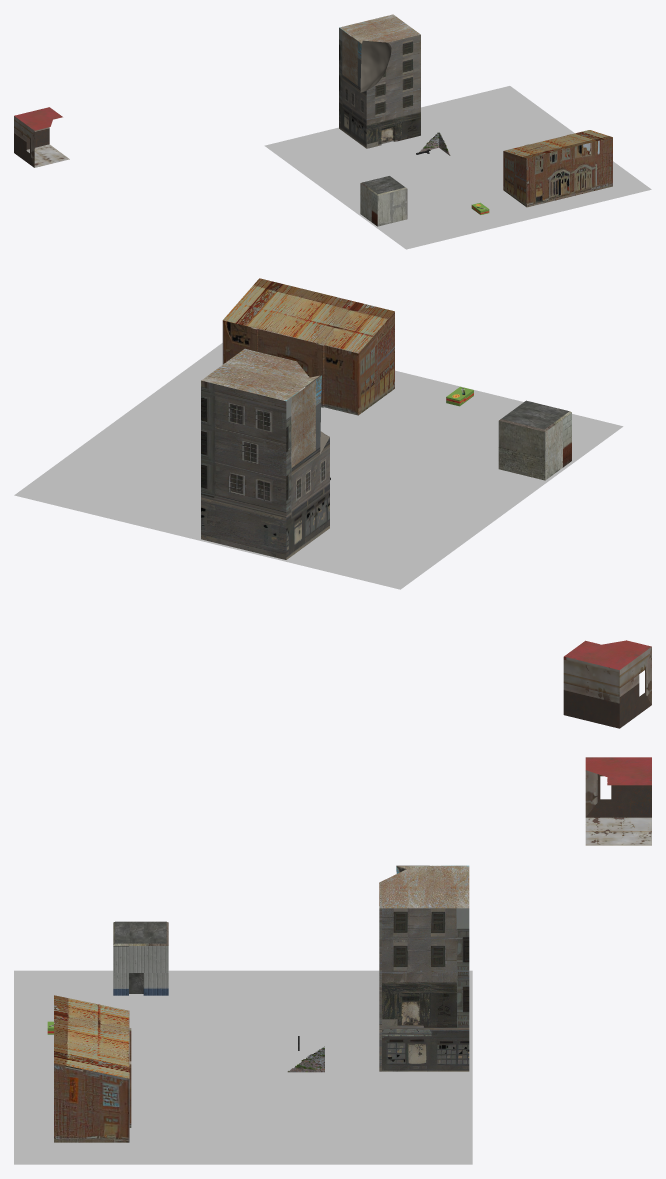
The model's file is Rota.obj.
3 views of the same model, one above another, from view 1: azimuth 30°, elevation 25°; view 2: azimuth 150°, elevation 25°; view 3: azimuth 270°, elevation 25° (orthographic). The views are drawn at different scales.
Visible parts, largest first — view 1: Plane, Alto, Bodega, Cube.002, Edificio01; view 2: Plane, Alto, Bodega, Cube.002, Edificio01; view 3: Plane, Alto, Bodega, Cube.002, Edificio01.
Boxes of the visible parts, x1,y1,x2,y2 form: Plane: (264,86,651,249); Alto: (339,14,420,148); Bodega: (503,130,612,207); Cube.002: (14,107,69,167); Edificio01: (360,176,407,226); Plane: (14,343,623,589); Alto: (201,348,329,559); Bodega: (222,278,394,415); Cube.002: (563,640,651,728); Edificio01: (498,400,571,480); Plane: (14,970,472,1164); Alto: (379,865,469,1071); Bodega: (54,995,131,1142); Cube.002: (585,757,651,845); Edificio01: (113,921,168,995).
Bounding box in the file's own units: 149 × 32.68 × 115.
